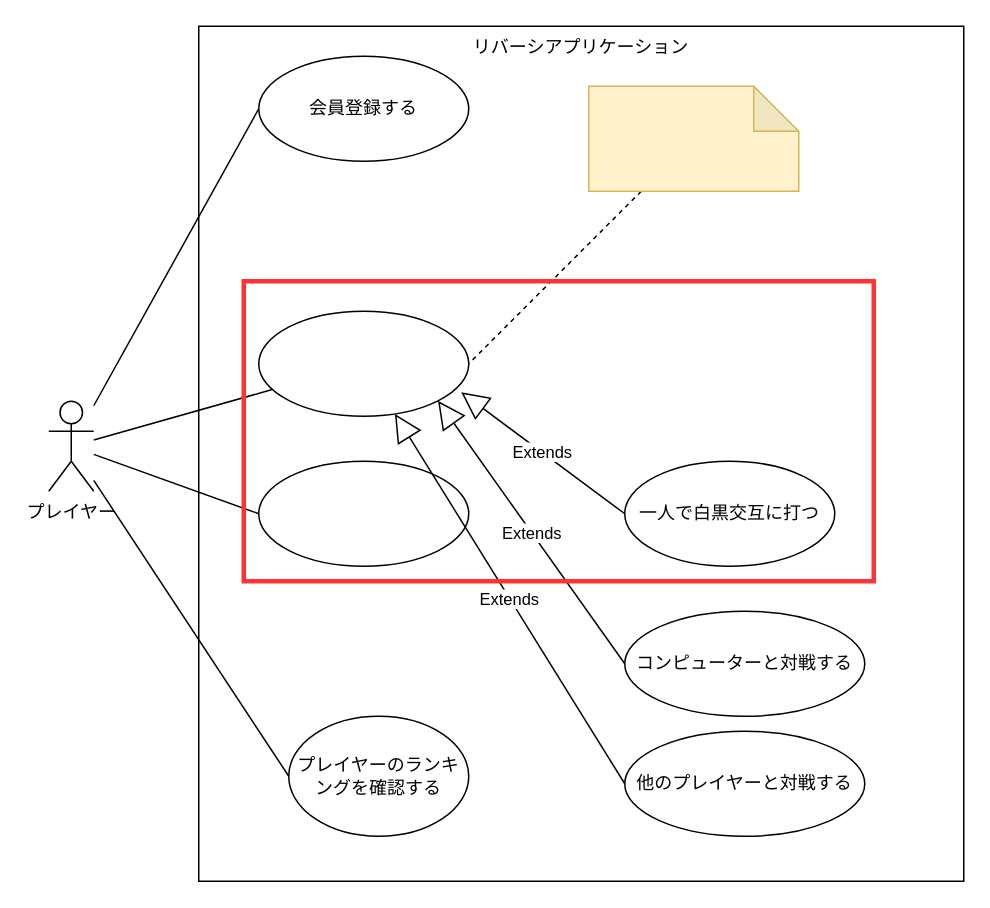
The diagram is 990 pixels wide and 908 high, and some of its shapes have lost their labels. The centre of each missing label's shape, as x and y in pixels:
"・対戦を開始する ・盤面を見る ・石を打つ ・勝敗を確認する" belongs at (693,138).
"対戦する" belongs at (363,363).
"自分の過去の対戦結果を確認する" belongs at (363,513).
